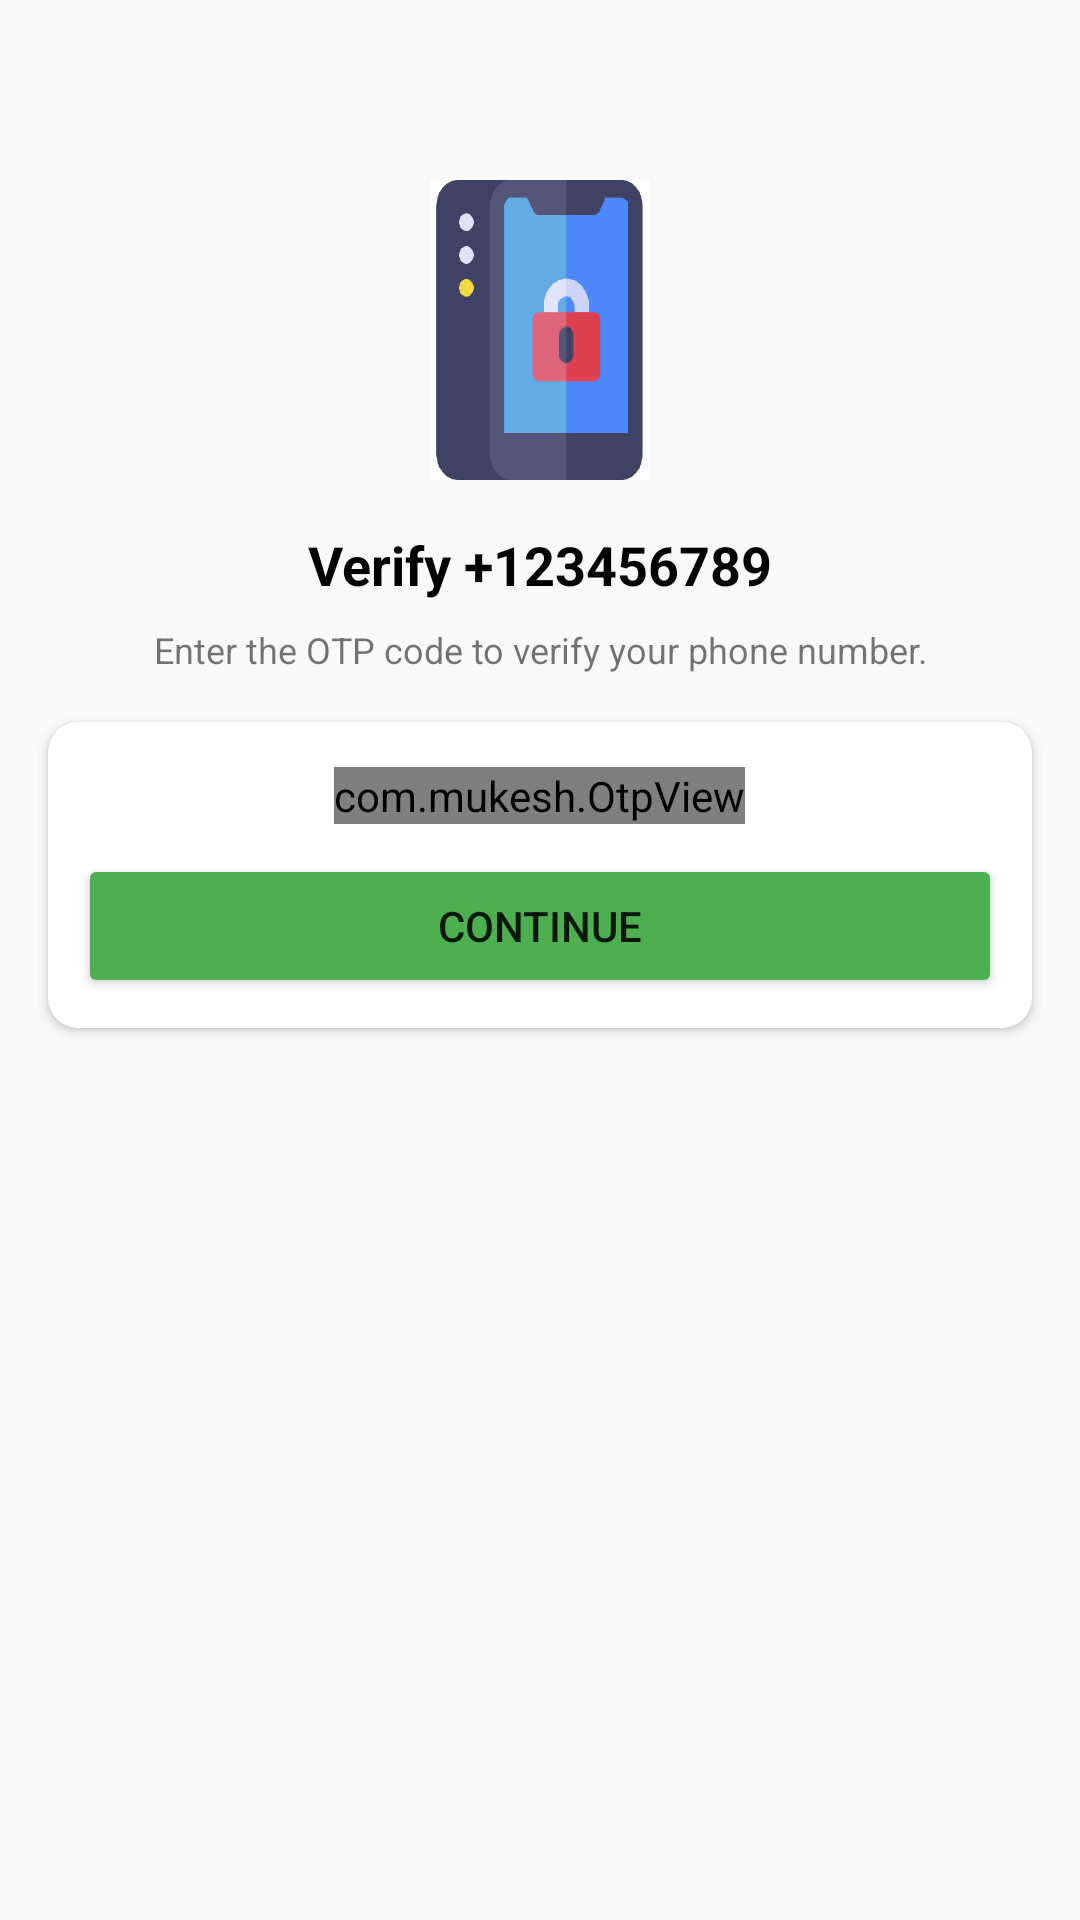

Icon click points for this 1080x1920 phone screenshot, format (x=x, y=y):
mobile auth: (x=539, y=330)
